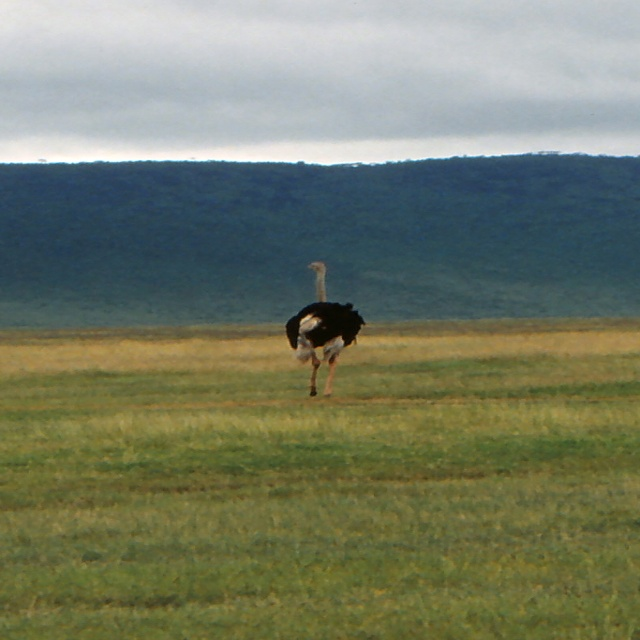Ostrich: (282, 260, 364, 400)
